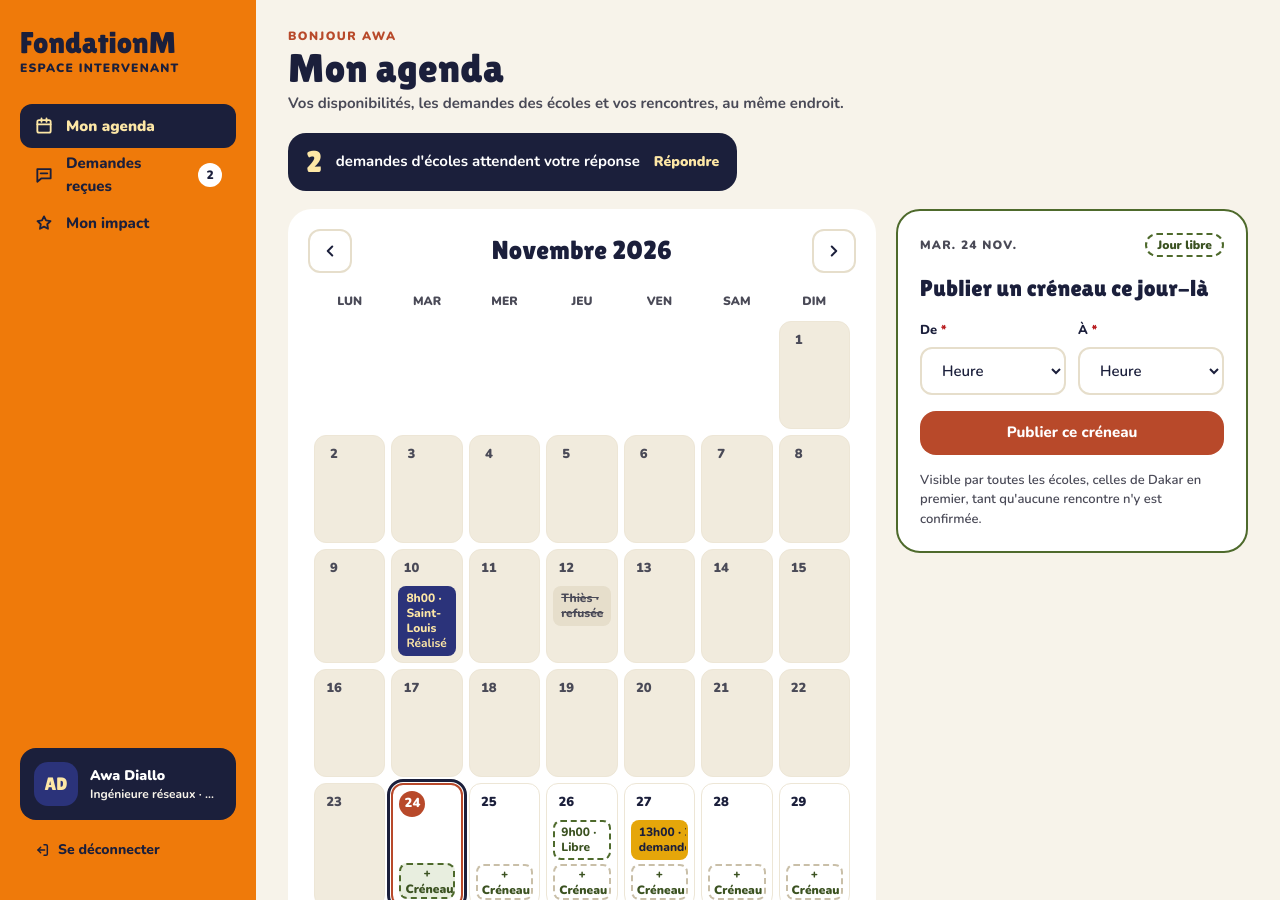
Test: Mon agenda › affiche SLOT_OVERLAP sous le formulaire
Click the button with aria-label "Publier un créneau le jeudi 26 novembre 2026": click(582, 882) 553,864 -> 611,899
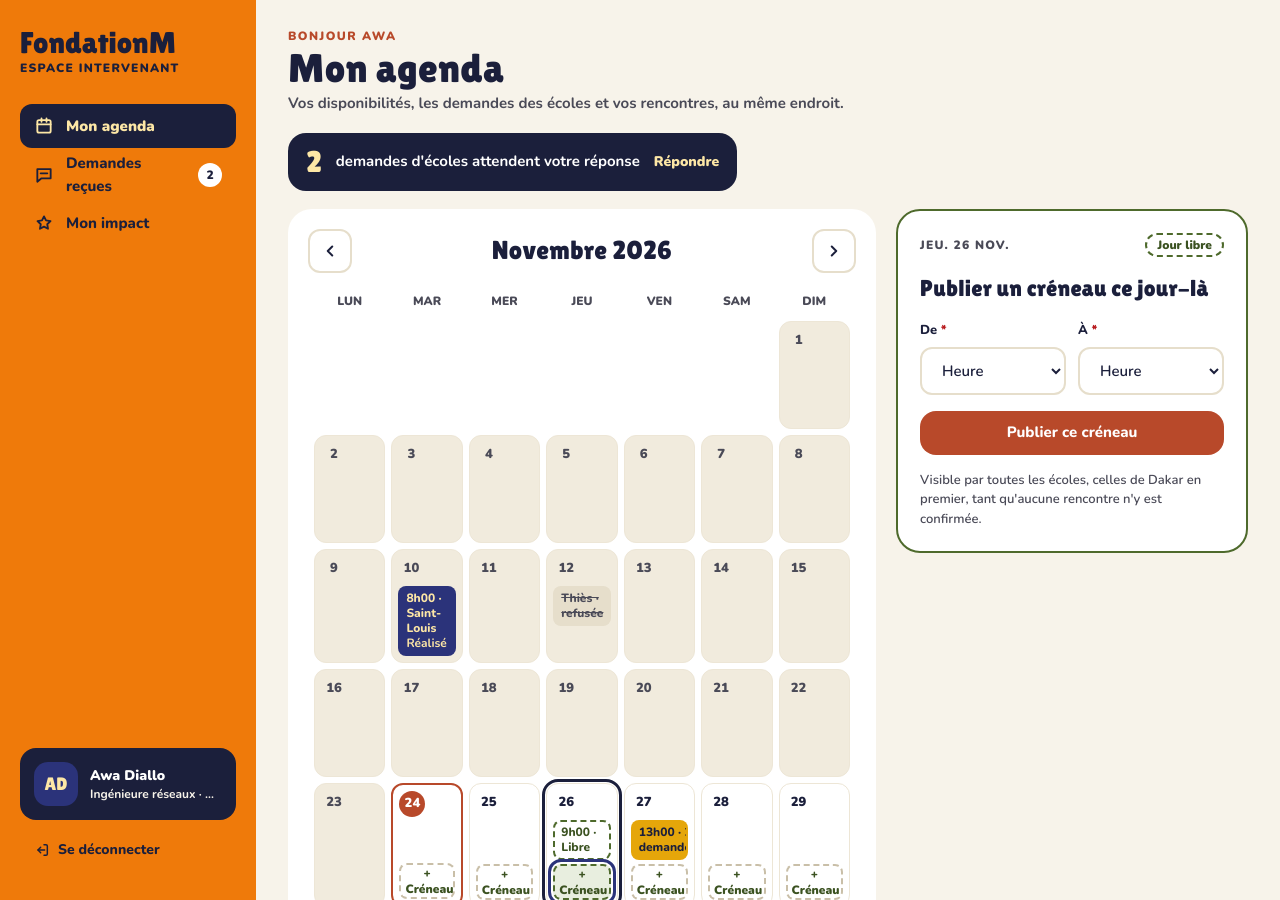
Select "11h00" in the dropdown labelled "De *": (993, 370) 920,346 -> 1066,394
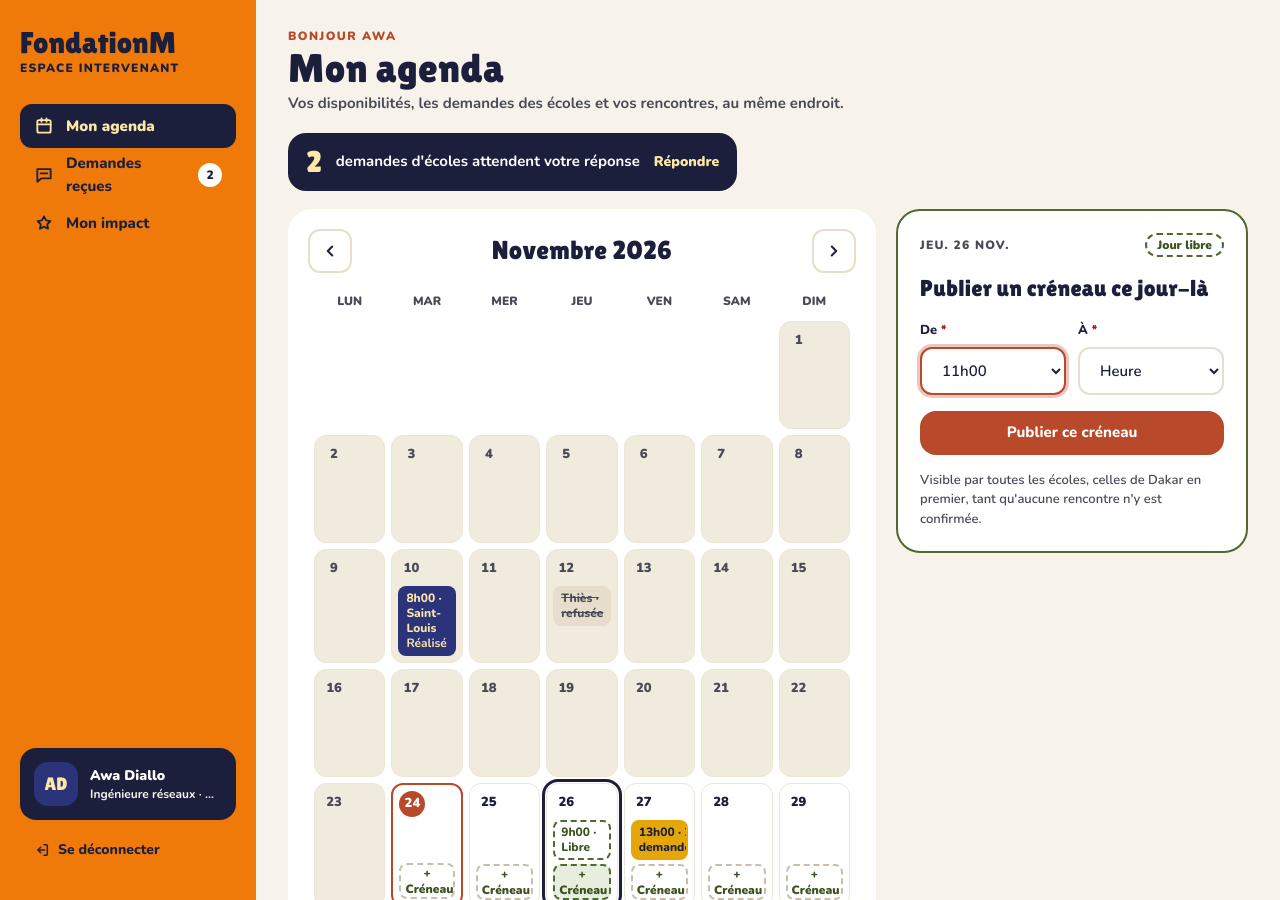
Select "12h00" in the dropdown labelled "À *": (1151, 370) 1078,346 -> 1224,394
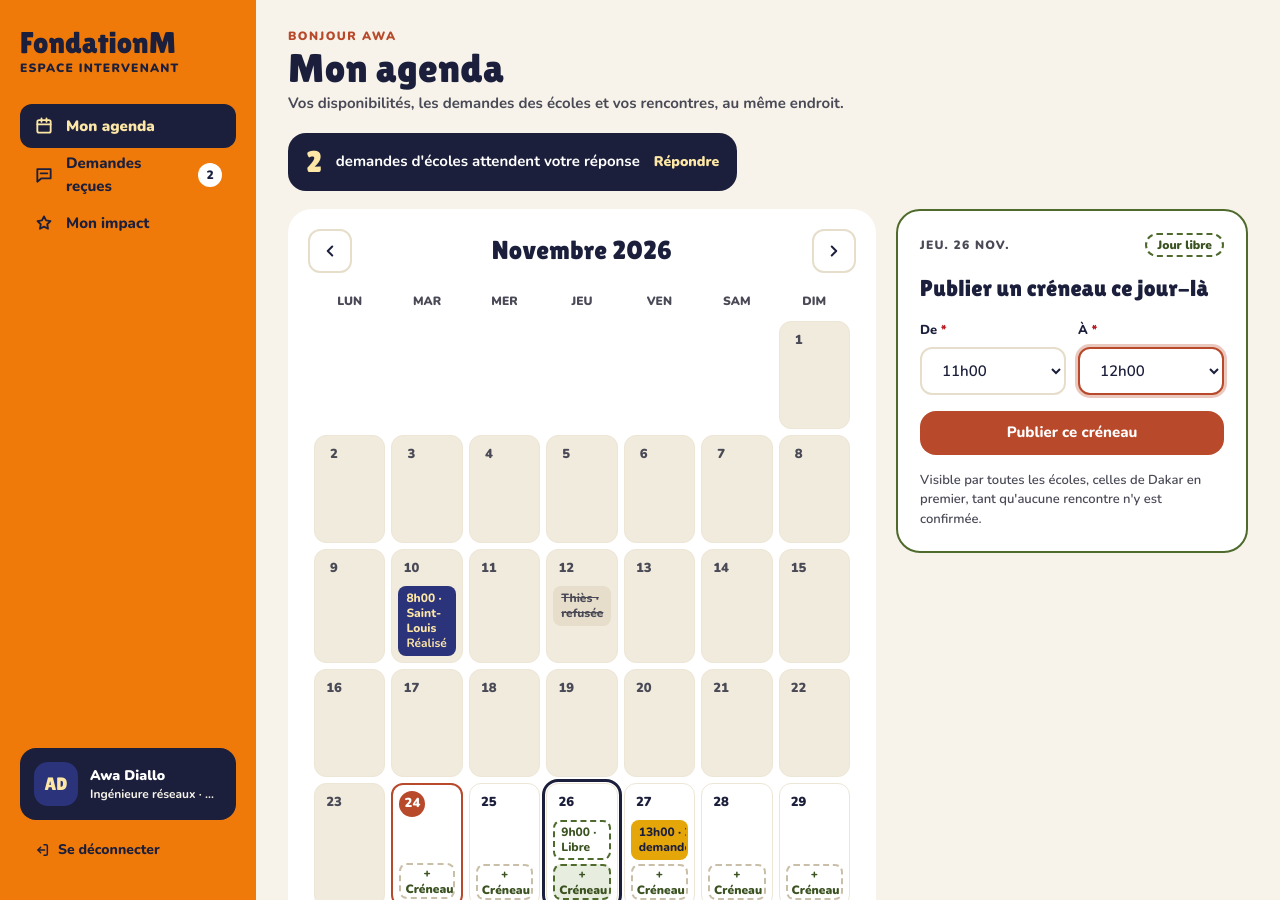
Click the button "Publier ce créneau": click(1072, 432) 920,410 -> 1224,454
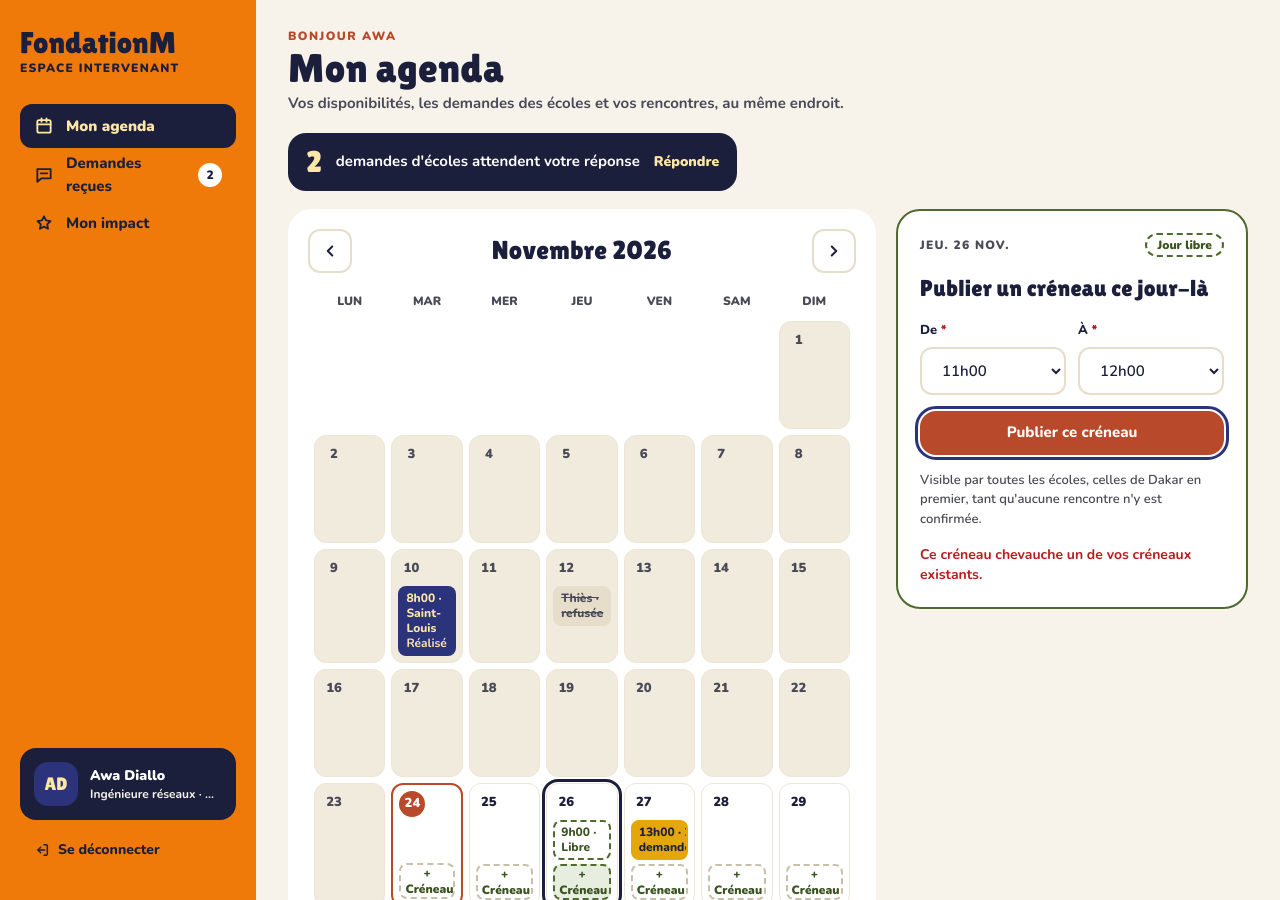
Expected: the message "Ce créneau chevauche un de vos créneaux existants." is shown, 920,545 -> 1224,585
